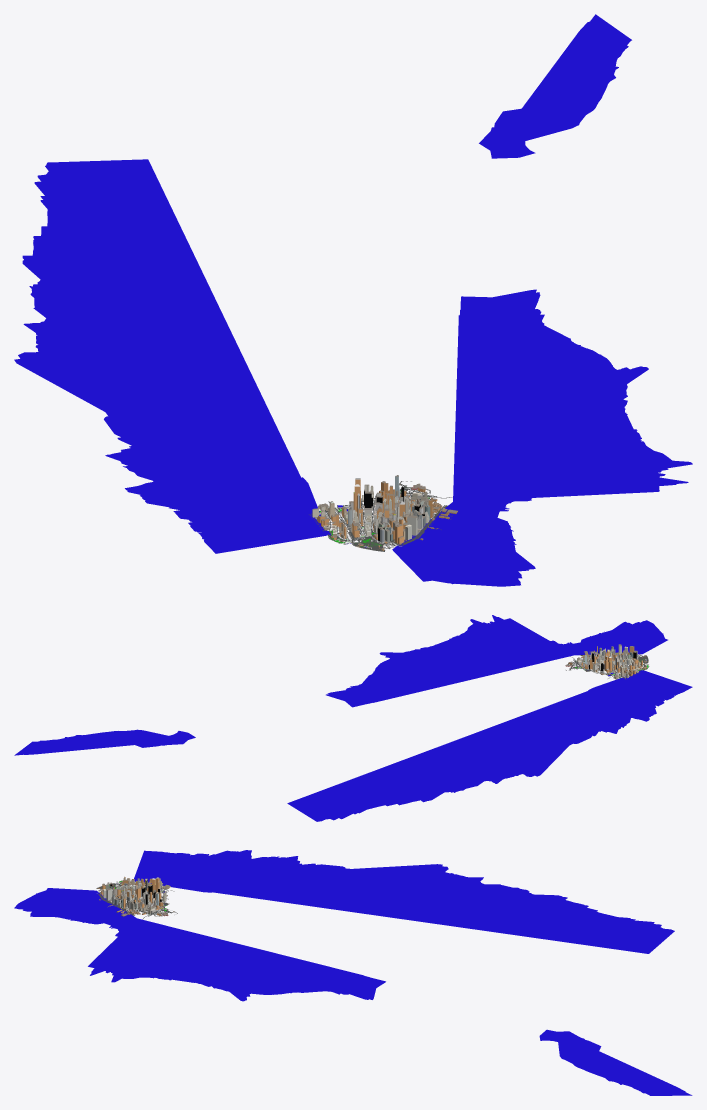
Rendered from New York BLOSM.fbx.
3 views of the same model, one above another, from view 1: azimuth 30°, elevation 25°; view 2: azimuth 150°, elevation 25°; view 3: azimuth 270°, elevation 25° (orthographic). The views are drawn at different scales.
Visible parts, largest first — view 1: map_7.osm_water, map_7.osm_buildings; view 2: map_7.osm_water, map_7.osm_buildings; view 3: map_7.osm_water, map_7.osm_buildings.
Boxes of the visible parts, box(x1,y1,x2,y2) form: map_7.osm_water: box(14, 14, 692, 586); map_7.osm_buildings: box(312, 475, 457, 550); map_7.osm_water: box(14, 615, 692, 821); map_7.osm_buildings: box(565, 644, 648, 679); map_7.osm_water: box(14, 850, 692, 1095); map_7.osm_buildings: box(97, 876, 173, 916).
Size of the model in its own units: 1052848 by 35200 by 1228275.
